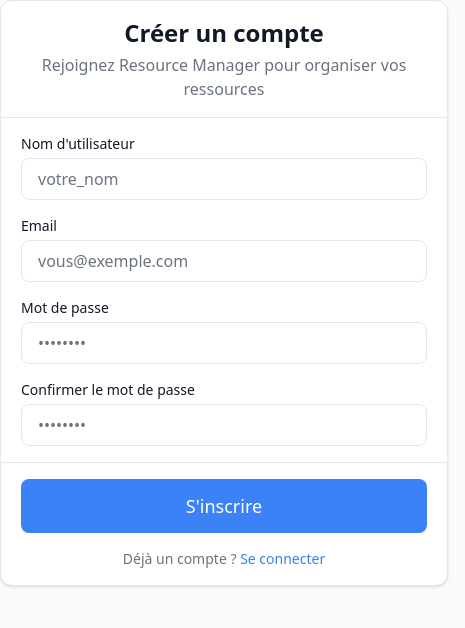
Test: RegisterForm › shows error when passwords do not match
Type "testuser" into the field labelled "Nom d'utilisateur" at x=224, y=179, box [21,158,427,200]
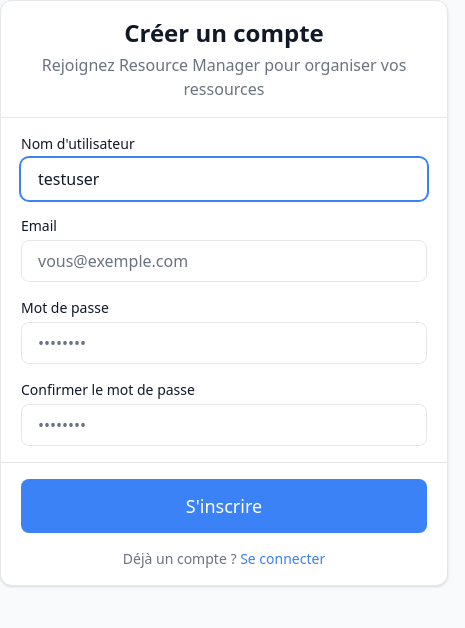
Type "test@example.com" into the field labelled "Email" at x=224, y=261, box [21,240,427,282]
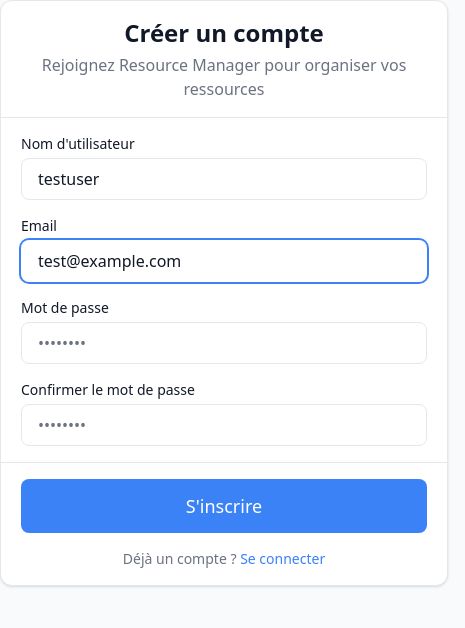
Type "password123" into the password field labelled "Mot de passe" at x=224, y=343, box [21,322,427,364]
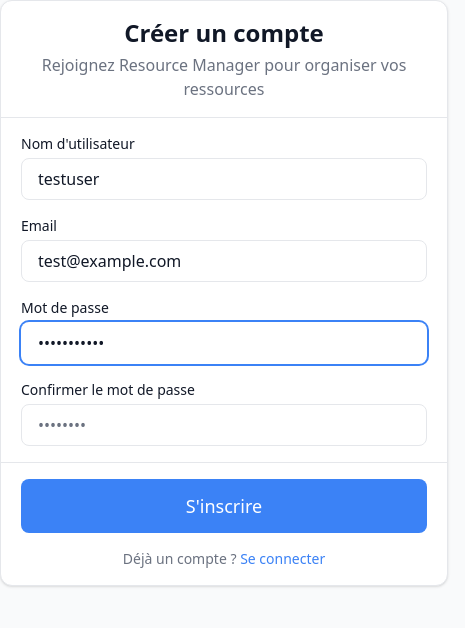
Type "differentpassword" into the password field labelled "Confirmer le mot de passe" at x=224, y=425, box [21,404,427,446]
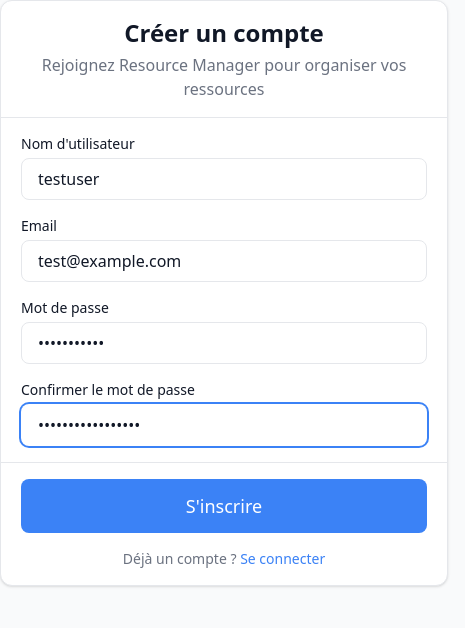
Submit the form "S'inscrire"
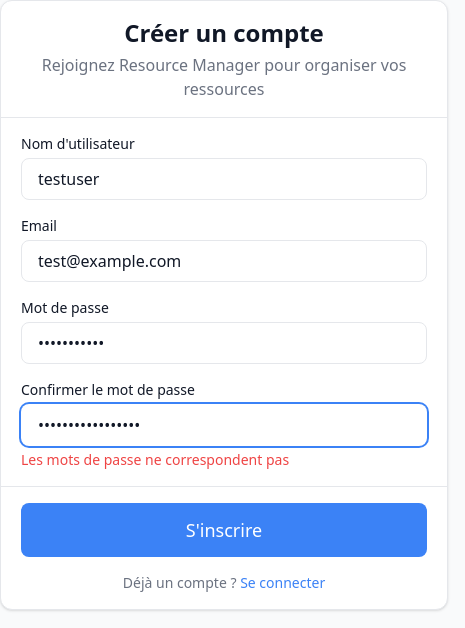
Check: the text "Les mots de passe ne correspondent pas" is shown, box [21,450,289,469]
